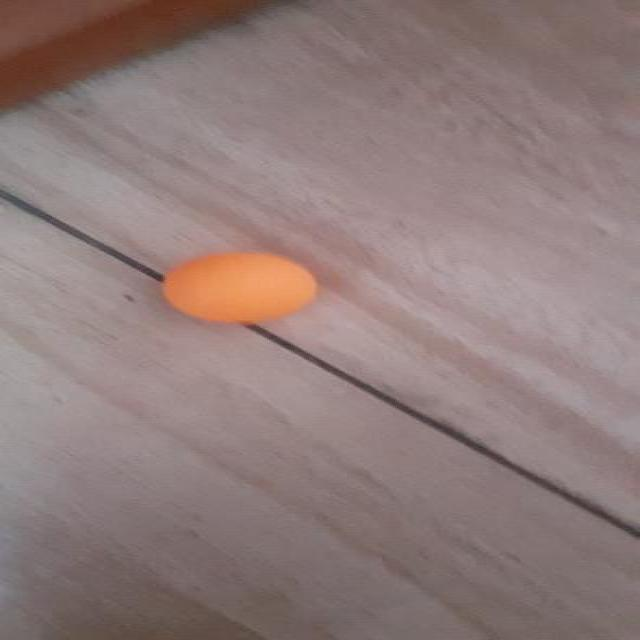oball: (166, 250, 312, 324)
